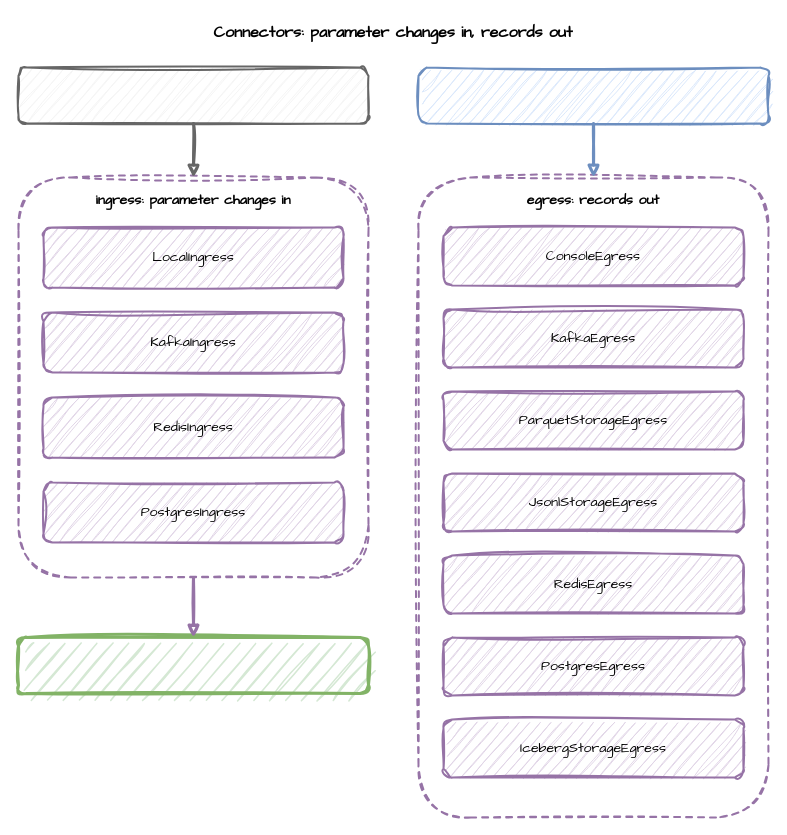
The diagram is 787 pixels wide and 835 high, and some of its shapes have lost their labels. The box of each missing label's shape, as (x1, y1, x2, y2) in pixels:
parameter changes from outside: (17, 66, 369, 124)
records from tasks and processes: (417, 66, 769, 124)
registry: (16, 636, 370, 694)
